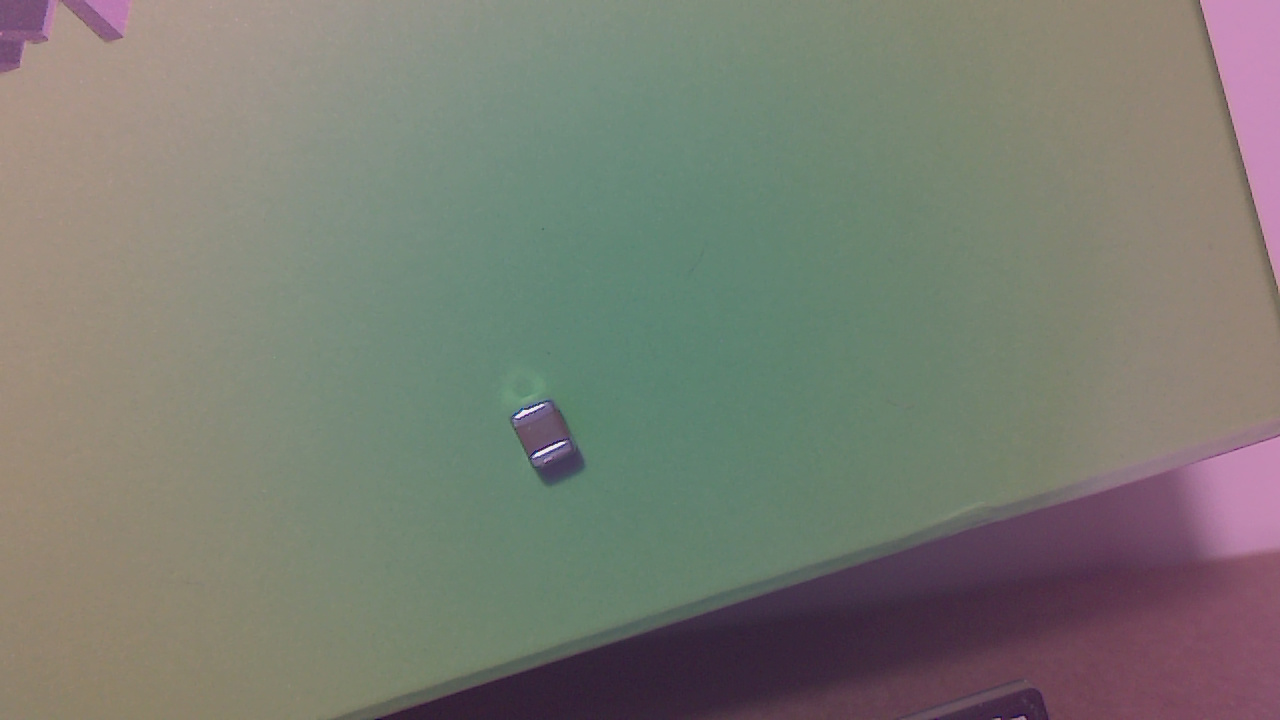Condensator: (515, 401, 585, 481)
